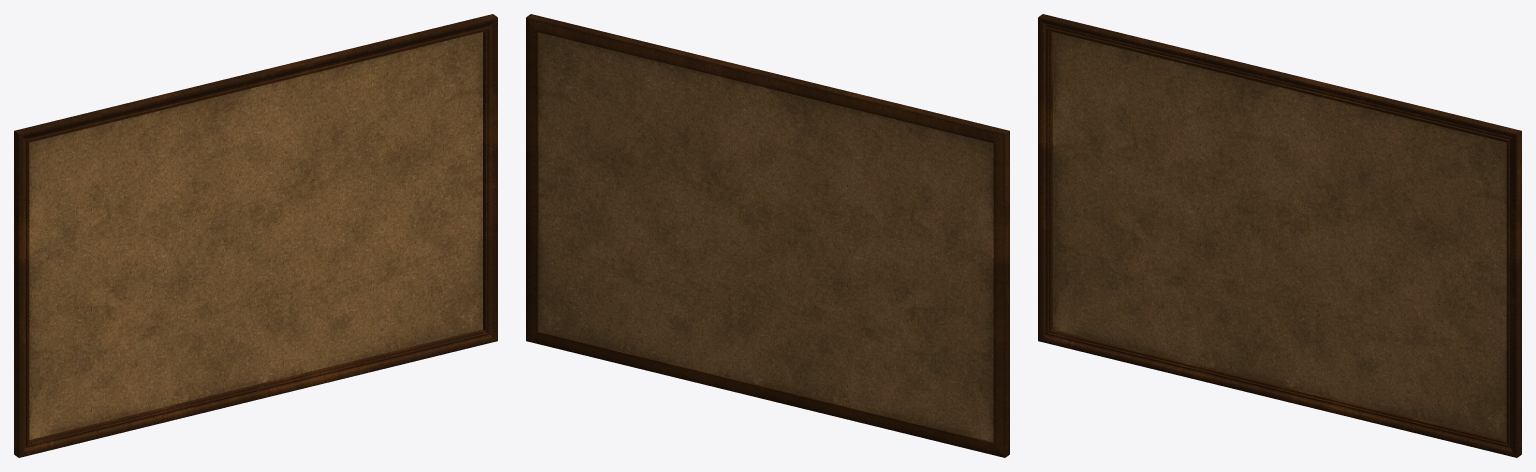
File: notice-board.glb
3 renders of one model, left to right at view 1: azimuth 30°, elevation 25°; view 2: azimuth 150°, elevation 25°; view 3: azimuth 330°, elevation 25°, orthographic.
Visible parts, largest first — view 1: Cork_2, Frame_3; view 2: Cork_2, Frame_3; view 3: Cork_2, Frame_3.
Boxes of the visible parts, x1,y1,x2,y2 form: Cork_2: (29,32,482,439); Frame_3: (14,14,497,457); Cork_2: (538,32,993,442); Frame_3: (526,14,1009,457); Cork_2: (1053,32,1506,439); Frame_3: (1038,14,1521,457).
Size of the model in its own units: 201 by 130 by 3.51.
Materials: 1 (1 with a texture image).
